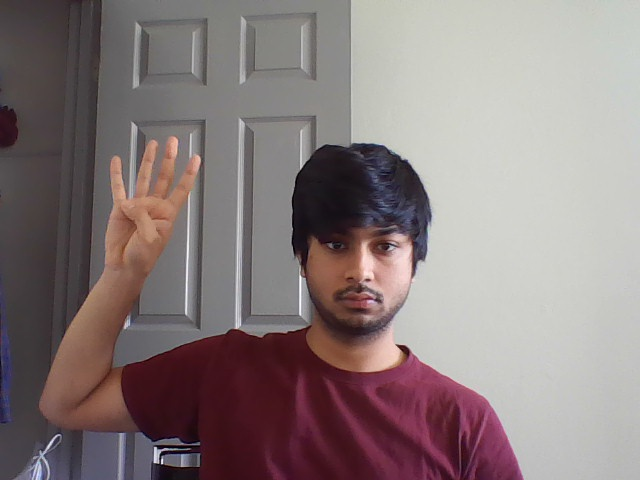four: (104, 133, 209, 214)
